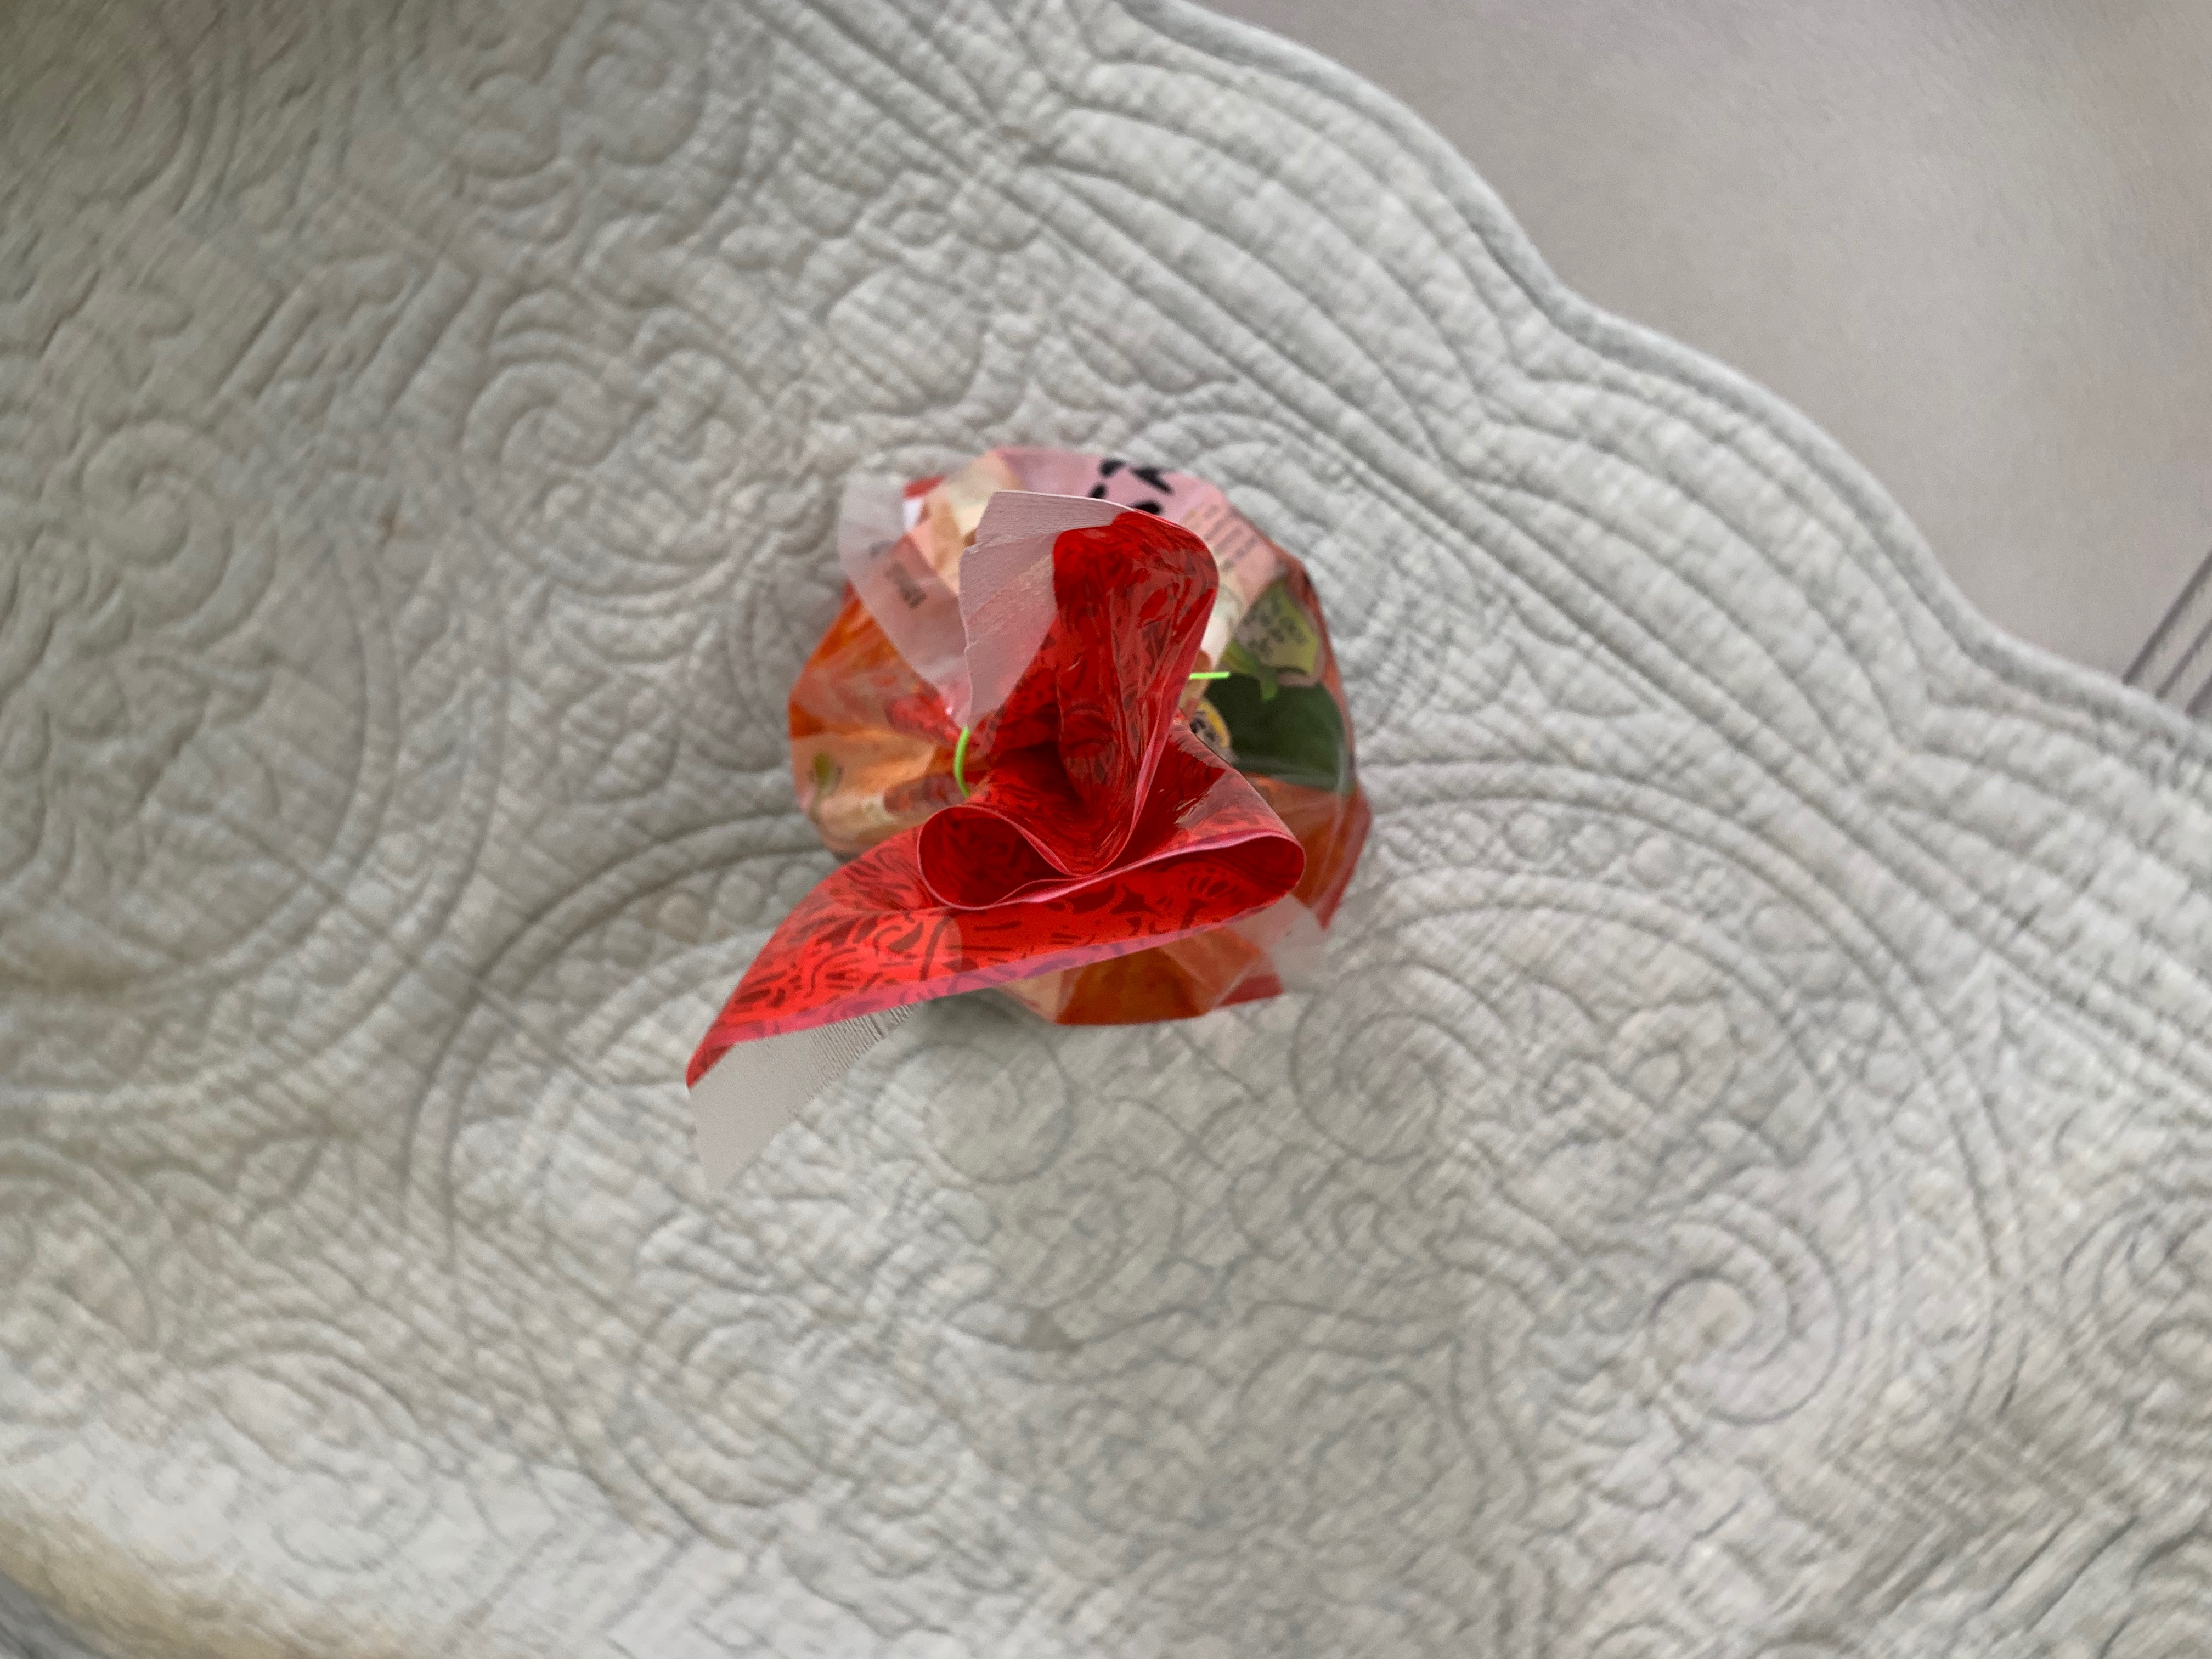kimchi: (690, 450, 1371, 1021)
